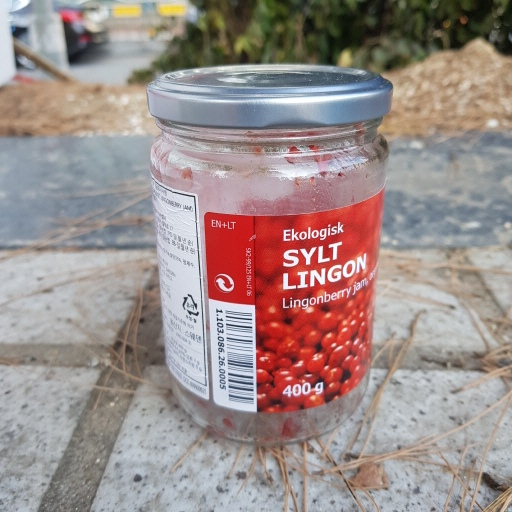Glass_5: (145, 61, 391, 448)
